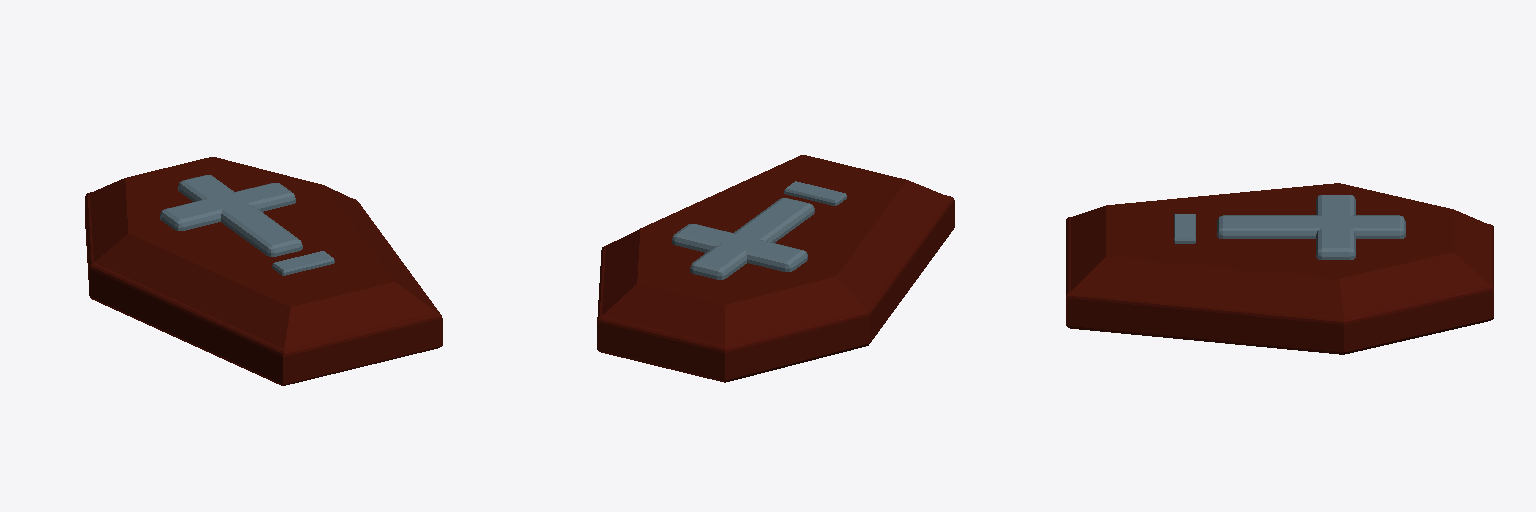
File: coffinA_top.obj
3 views of the same model, side by side, from view 1: azimuth 30°, elevation 25°; view 2: azimuth 150°, elevation 25°; view 3: azimuth 270°, elevation 25° (orthographic).
Visible parts, largest first — view 1: coffinA_top_Cube.019; view 2: coffinA_top_Cube.019; view 3: coffinA_top_Cube.019.
Boxes of the visible parts, <box> form: coffinA_top_Cube.019: <box>85,157,442,385</box>; coffinA_top_Cube.019: <box>597,155,954,382</box>; coffinA_top_Cube.019: <box>1066,183,1493,354</box>.
Bounding box in the file's own units: 1.45 × 0.3547 × 2.